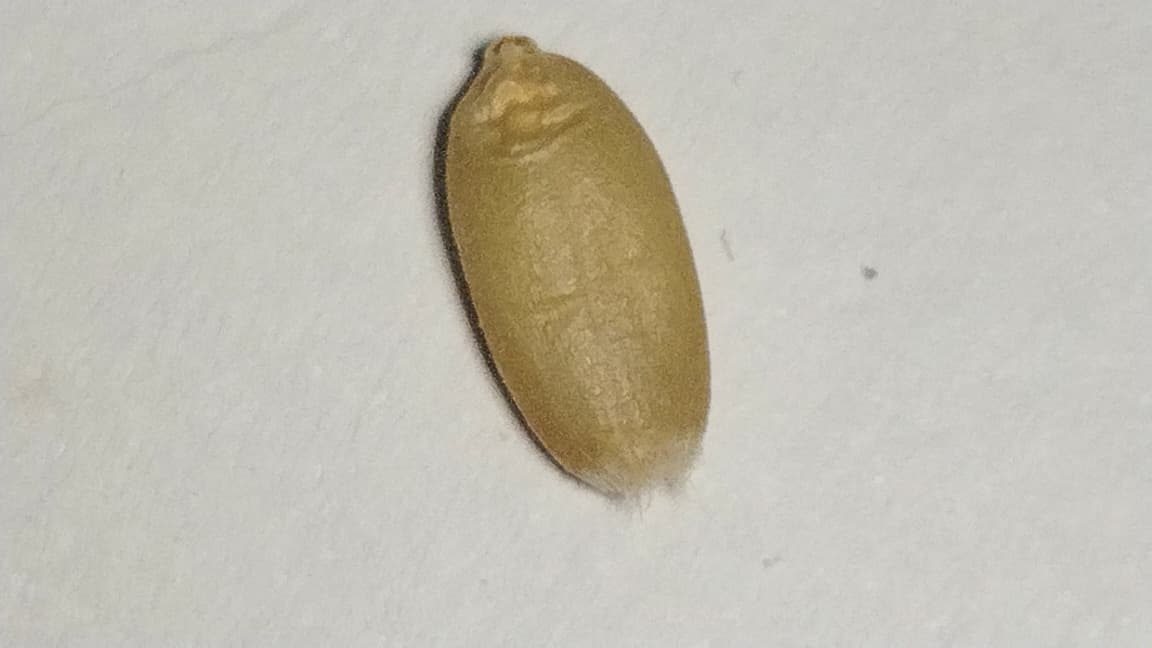healthy: (444, 37, 710, 471)
